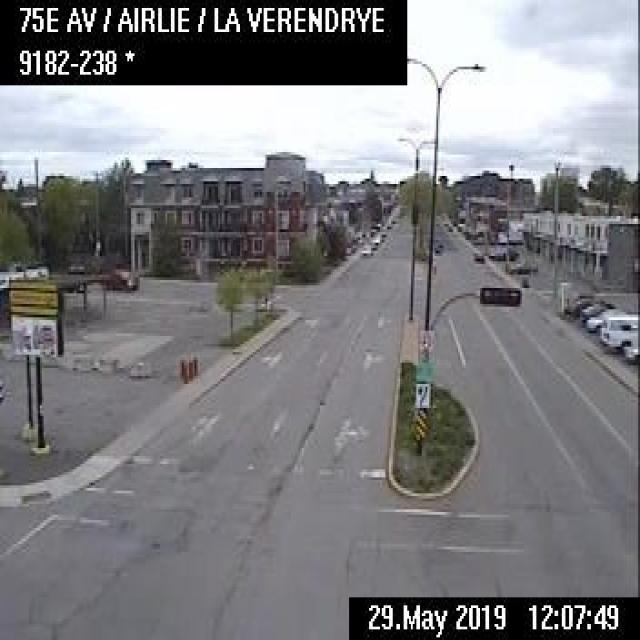construction: (191, 353, 197, 375), (181, 360, 187, 382), (186, 357, 192, 378), (180, 357, 183, 376)
vehicle: (600, 312, 637, 350), (96, 264, 140, 291), (585, 306, 627, 332), (579, 299, 613, 324), (506, 258, 536, 274), (487, 244, 517, 259), (623, 343, 637, 362), (471, 248, 485, 261), (360, 243, 370, 256), (367, 236, 377, 248), (378, 230, 385, 240)
